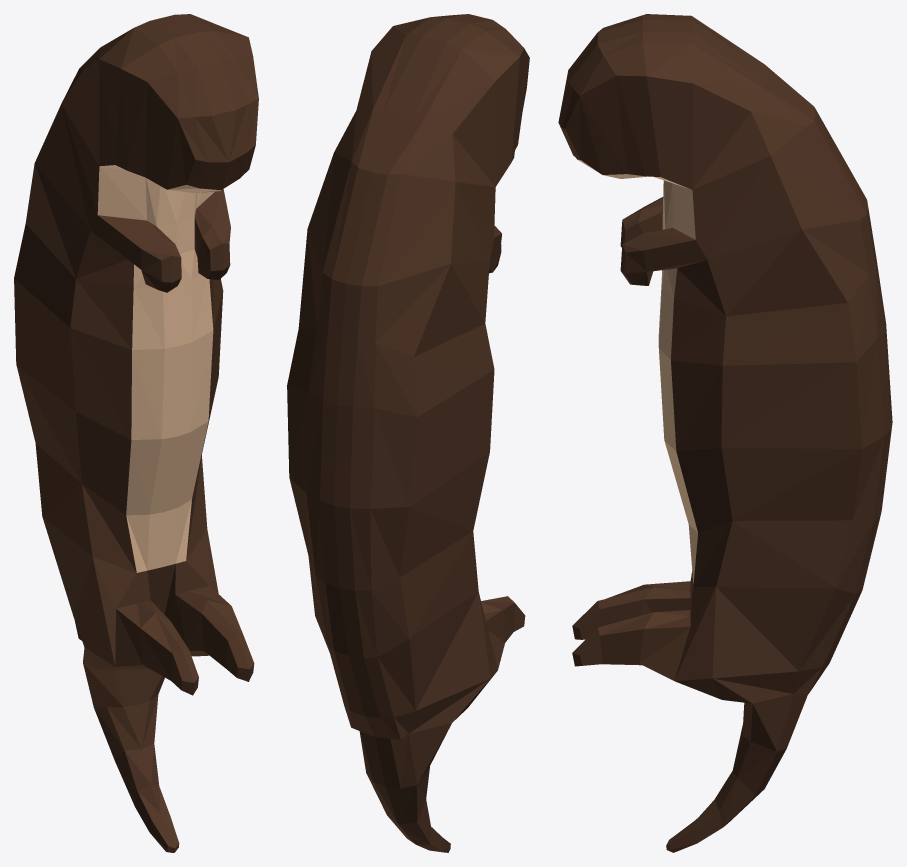
The model's file is otter.glb.
The picture shows the model from 3 angles, left to right: view 1: azimuth 30°, elevation 25°; view 2: azimuth 150°, elevation 25°; view 3: azimuth 270°, elevation 25°; orthographic projection.
Visible parts, largest first — view 1: otter; view 2: otter; view 3: otter.
Boxes of the visible parts, x1,y1,x2,y2 form: otter: [14, 14, 258, 852]; otter: [287, 14, 529, 852]; otter: [558, 14, 892, 852].
Size of the model in its own units: 0.7724 by 4 by 1.46.
